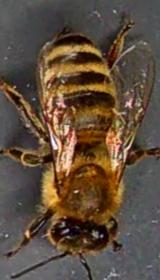varroa_mite: (38, 100, 68, 126)
